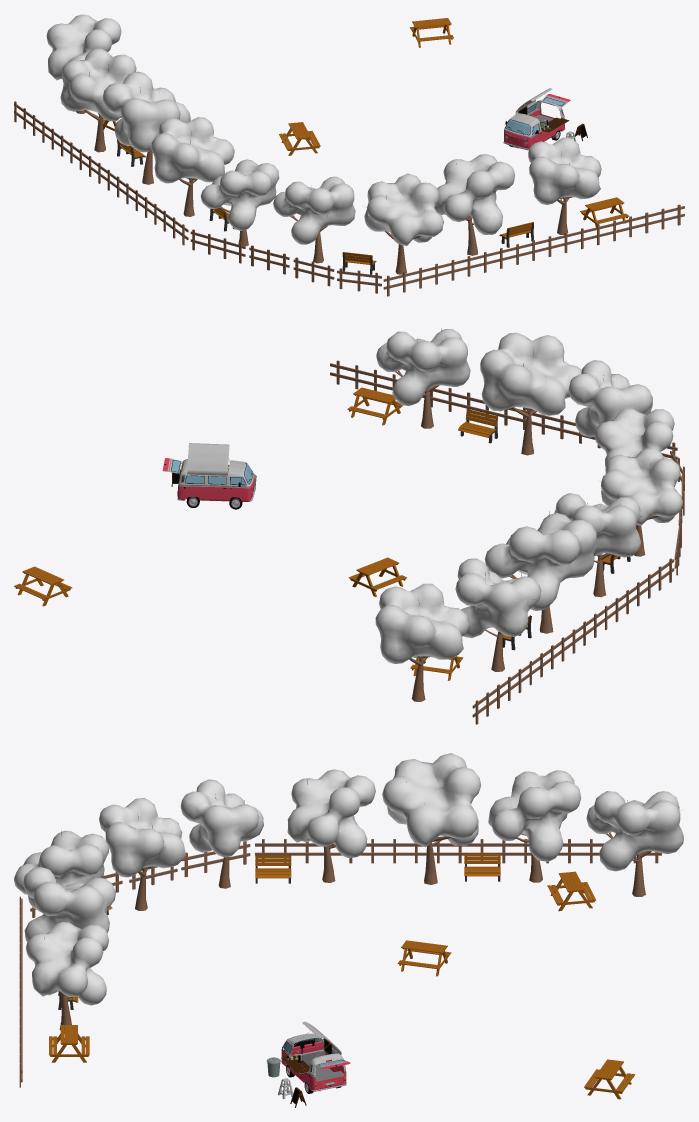
File: cozy-scene2.glb
3 renders of one model, top to bottom at view 1: azimuth 30°, elevation 25°; view 2: azimuth 150°, elevation 25°; view 3: azimuth 270°, elevation 25°, orthographic. The views are drawn at different scales.
Parts seen in each view (by area): view 1: foliage, fence, trunk, table-set, Body, bench; view 2: foliage, fence, table-set, trunk, roof, bench, Body; view 3: foliage, fence, table-set, trunk, bench, Body.
Part boxes in pixels (<box>): foliage: <box>46,14,601,245</box>; fence: <box>14,101,684,296</box>; trunk: <box>67,64,572,274</box>; table-set: <box>98,18,629,227</box>; Body: <box>504,100,564,148</box>; bench: <box>117,139,533,274</box>; foliage: <box>375,329,682,663</box>; fence: <box>330,360,684,724</box>; table-set: <box>14,387,463,680</box>; trunk: <box>395,328,658,701</box>; roof: <box>187,443,229,475</box>; bench: <box>458,409,630,650</box>; Body: <box>177,459,254,501</box>; foliage: <box>14,753,683,1005</box>; fence: <box>19,839,661,1087</box>; table-set: <box>49,871,634,1099</box>; trunk: <box>44,777,681,1030</box>; bench: <box>58,852,500,1009</box>; Body: <box>282,1033,346,1090</box>.
Bounding box in the file's own units: 25.81 × 6.16 × 30.54.
